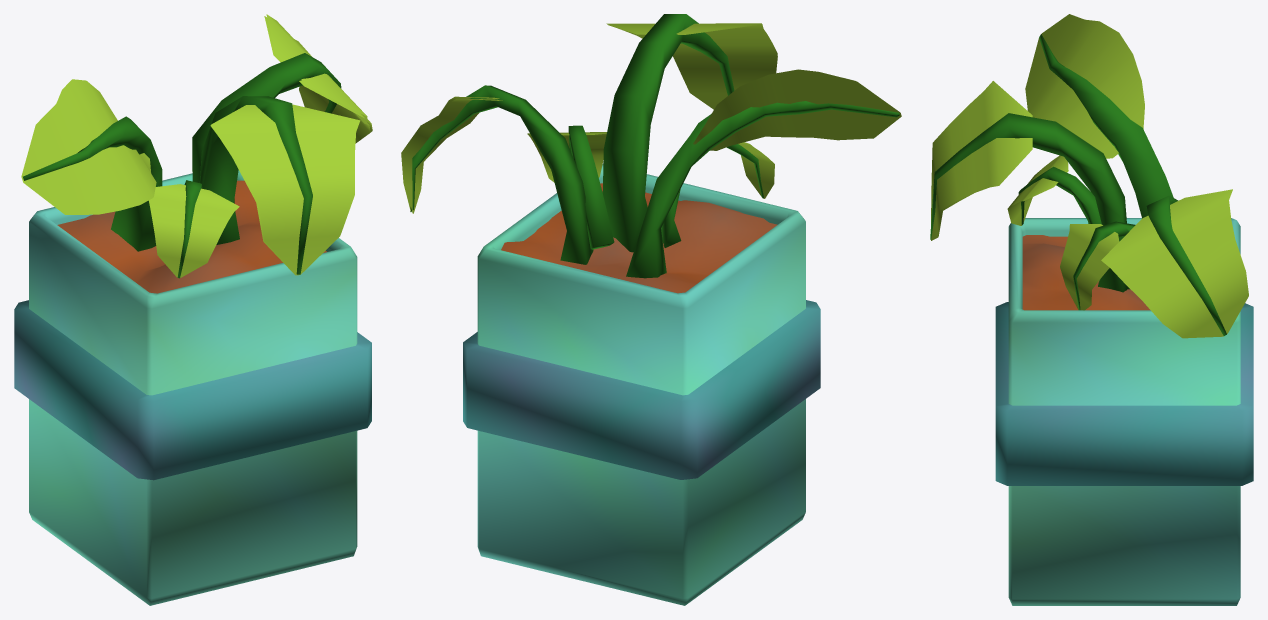
The model's file is PlantaGrande.fbx.
The picture shows the model from 3 angles, left to right: view 1: azimuth 30°, elevation 25°; view 2: azimuth 150°, elevation 25°; view 3: azimuth 270°, elevation 25°; orthographic projection. The views are drawn at different scales.
Visible parts, largest first — view 1: PlantaGrande; view 2: PlantaGrande; view 3: PlantaGrande.
Boxes of the visible parts, x1,y1,x2,y2 form: PlantaGrande: (14,14,372,605); PlantaGrande: (401,14,901,605); PlantaGrande: (930,14,1253,605).
Bounding box in the file's own units: 104 × 118 × 73.4.
1 material, 1 textured.
